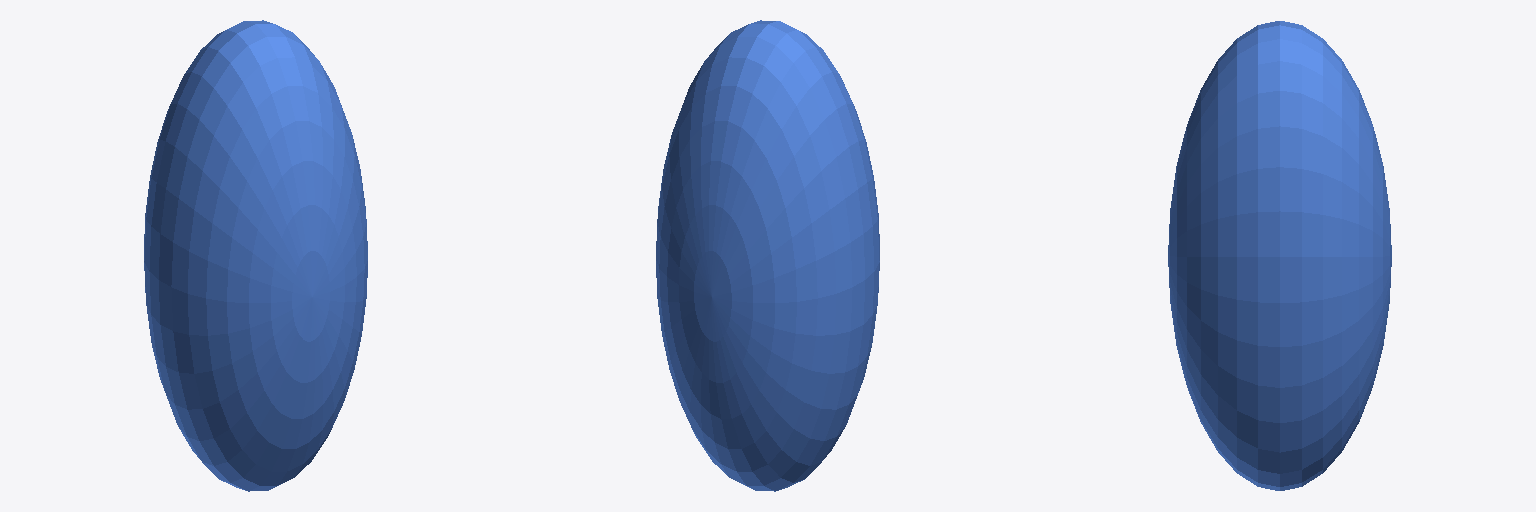
robot.urdf — fr3_link5_2_robot:
<?xml version="0.0" ?>
<robot name="fr3_link5_2_robot">
  <link name="base_link">
    <inertial>
      <origin rpy="0 0 0" xyz="0 0 0"/>
       <mass value=".1"/>
       <inertia ixx="1" ixy="0" ixz="0" iyy="1" iyz="0" izz="1"/>
    </inertial>
    
    <visual>
      <origin rpy="0 0 0" xyz="0 0 0.00"/>
      <geometry>
        <mesh filename="package://meshes/fr3_link5_2_ellipsoid.obj"/>
      </geometry>
      <material name="cornflowerblue">
        <color rgba="0.3921 0.5843 0.9294 0.8"/>
      </material>
    </visual>
  </link>
</robot>

--- What the picture shows (computed from the rendered views, not written in the file) ---
The picture shows the robot from 3 angles, left to right: view 1: azimuth 30°, elevation 25°; view 2: azimuth 150°, elevation 25°; view 3: azimuth 270°, elevation 25°; orthographic projection.
Model fr3_link5_2_robot with 1 links and 0 joints (none), rooted at base_link, posed all joints at 0.
Links seen in each view (by area): view 1: base_link; view 2: base_link; view 3: base_link.
Boxes of the visible links, x1,y1,x2,y2 form: base_link: (144, 20, 367, 491); base_link: (656, 20, 879, 491); base_link: (1168, 21, 1391, 490).
Bounding box of the posed robot: 0.11 × 0.11 × 0.25 m (x, y, z).
Meshes: 1 distinct files referenced, 1 mesh visuals loaded (1 OBJ).